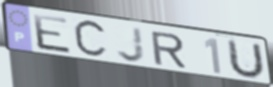1: (204, 36, 222, 75)
C: (72, 19, 110, 60)
E: (31, 12, 74, 56)
J: (115, 26, 147, 64)
R: (149, 30, 188, 69)
U: (227, 38, 267, 81)
